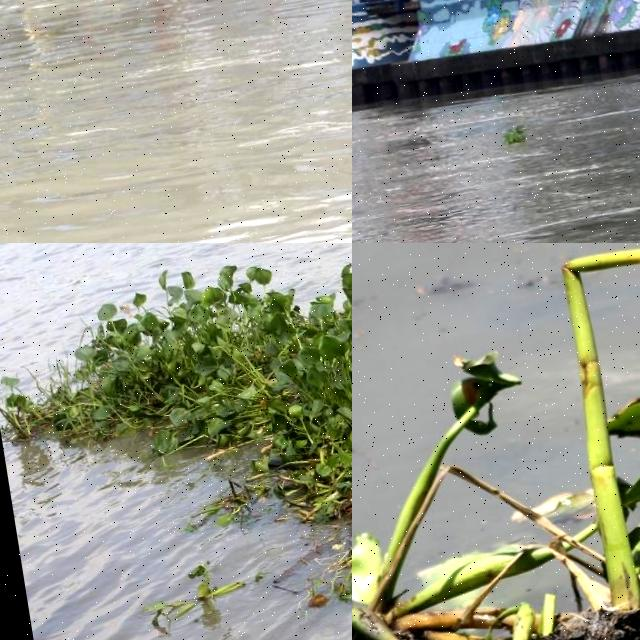water-hyacinth: (1, 244, 353, 635), (353, 244, 640, 640), (148, 553, 255, 626), (27, 1, 153, 31), (502, 122, 528, 152)
